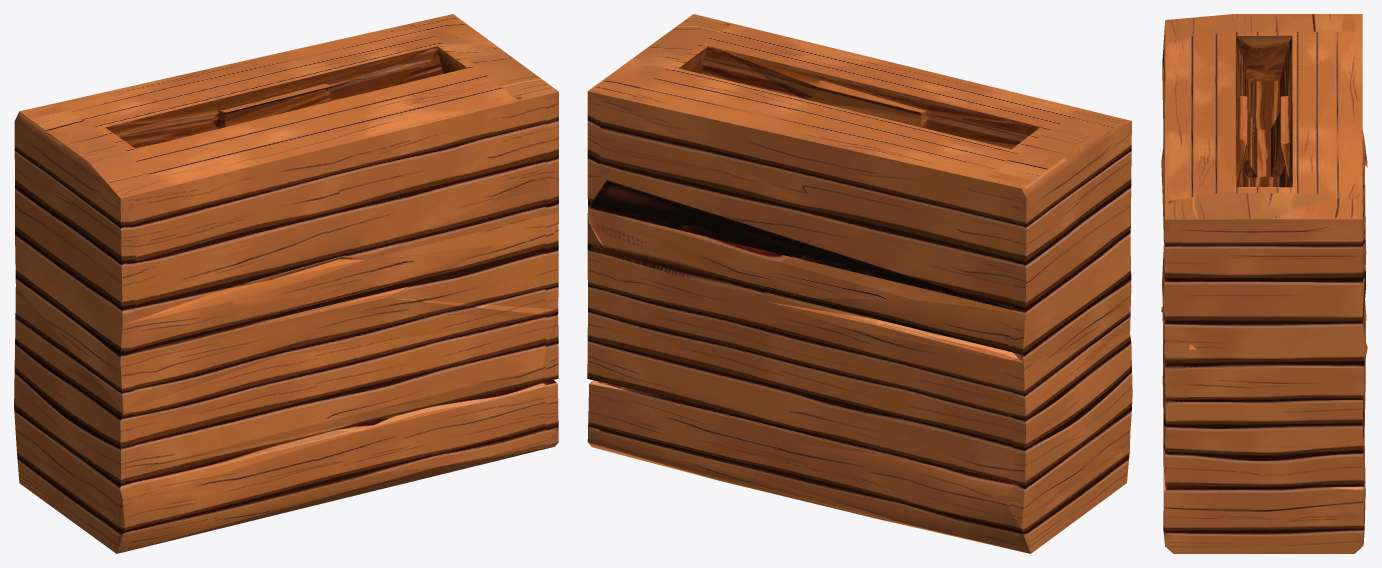
The model's file is deck-plank.glb.
The picture shows the model from 3 angles, left to right: view 1: azimuth 30°, elevation 25°; view 2: azimuth 150°, elevation 25°; view 3: azimuth 270°, elevation 25°; orthographic projection. The views are drawn at different scales.
Bounding box in the file's own units: 1.9 × 1.52 × 0.8299.
Materials: 1 (1 with a texture image).
